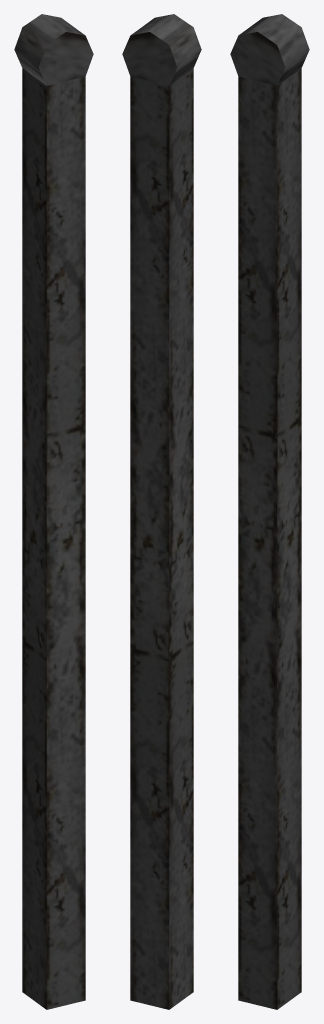
The model's file is p6_blackout_rail_endcap_a_lod0.glb.
The picture shows the model from 3 angles, left to right: view 1: azimuth 30°, elevation 25°; view 2: azimuth 150°, elevation 25°; view 3: azimuth 330°, elevation 25°; orthographic projection.
Visible parts, largest first — view 1: surf0; view 2: surf0; view 3: surf0.
Part boxes in pixels (x1,y1,x2,y2): surf0: (14,14,93,1009); surf0: (122,14,201,1009); surf0: (230,14,309,1009).
Bounding box in the file's own units: 1.99 × 33.59 × 1.52.
